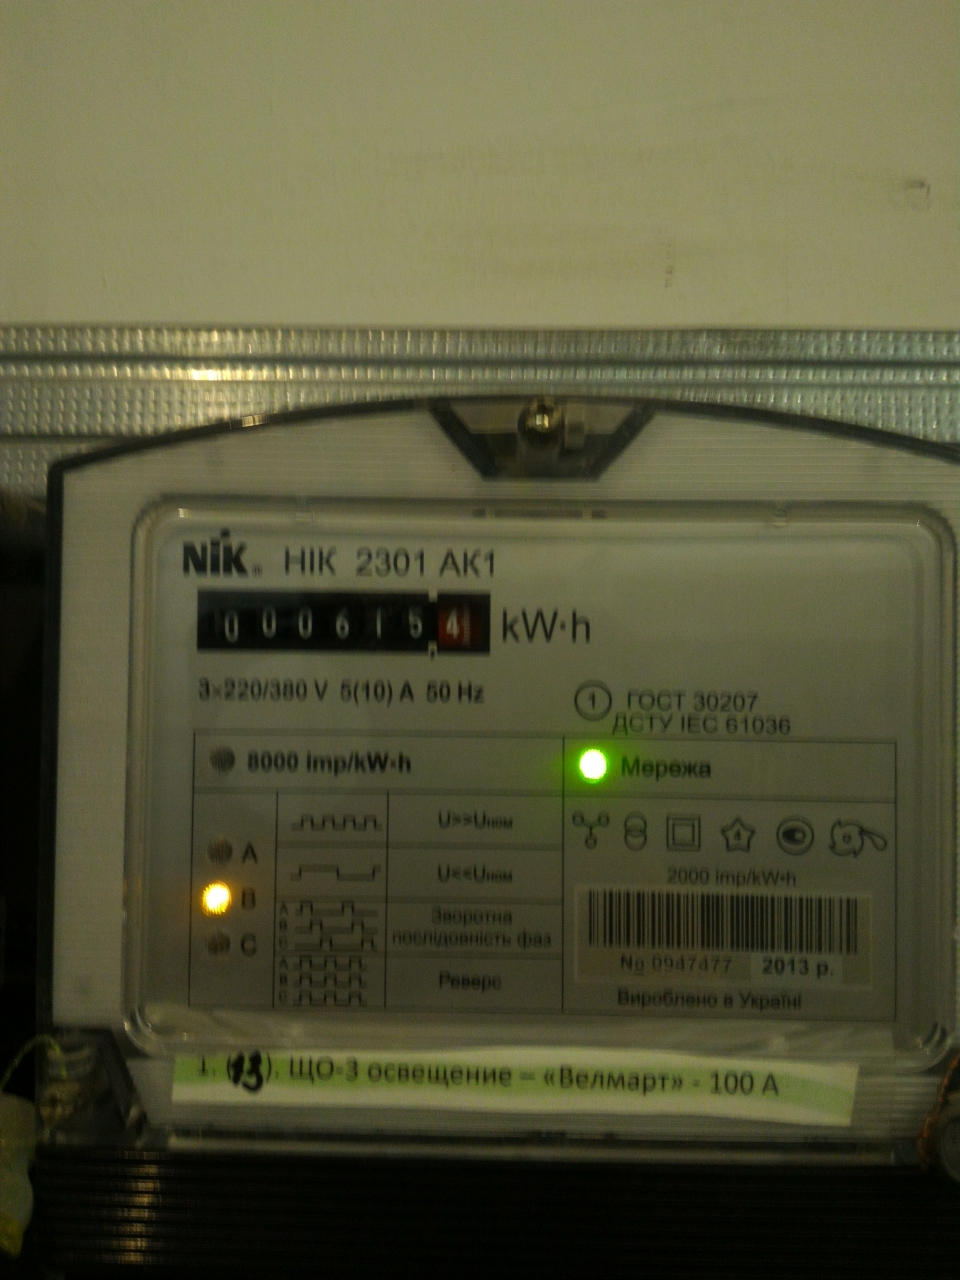0: (258, 602, 280, 640), (220, 608, 242, 643), (295, 604, 315, 640)
1: (370, 605, 387, 641)
4: (443, 604, 462, 643)
5: (405, 604, 425, 642)
6: (331, 604, 351, 642)
screen: (184, 577, 508, 670)
